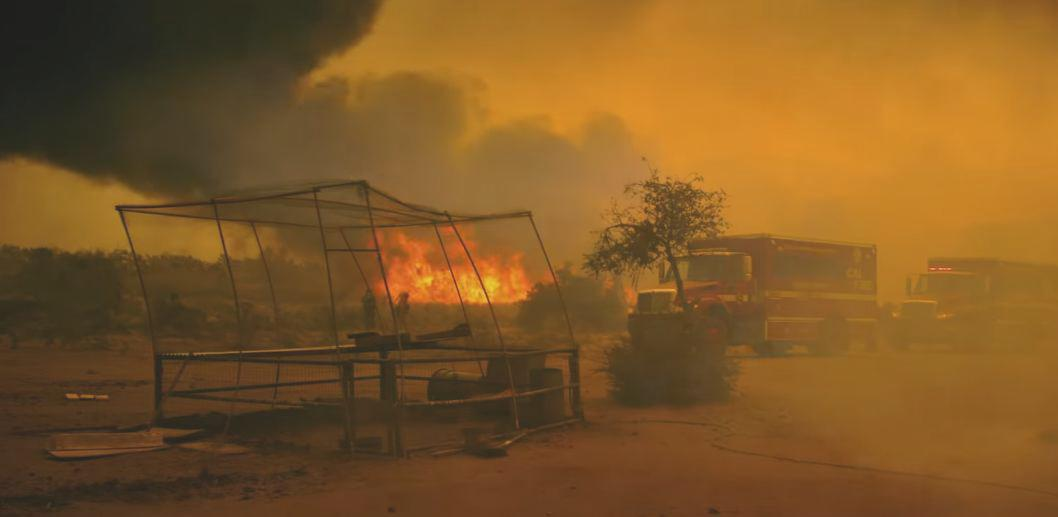Fire: (361, 216, 551, 314)
